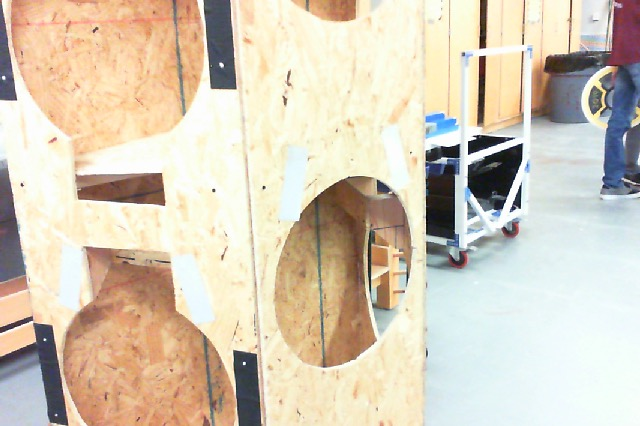Tape: (172, 253, 216, 326), (278, 145, 310, 222), (382, 125, 412, 191), (58, 243, 85, 312)
